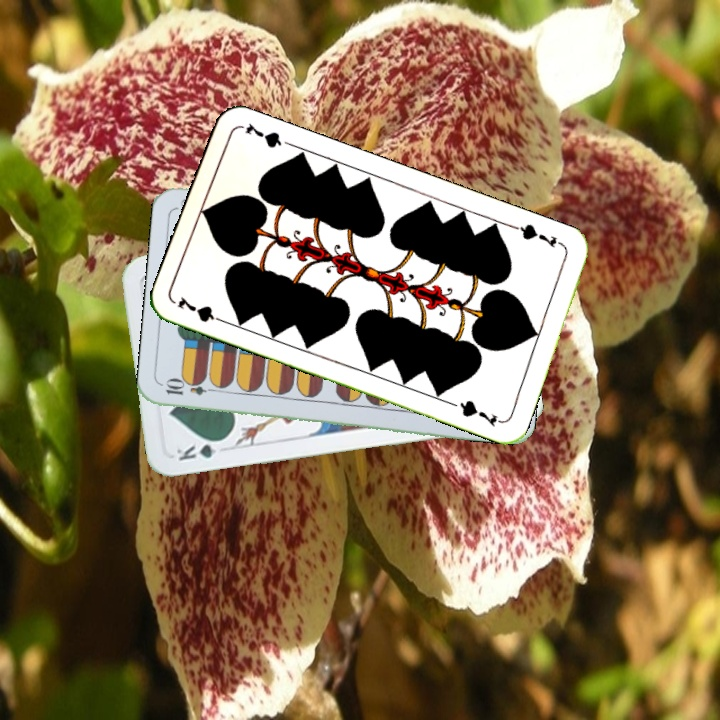E10: (161, 378, 221, 398)
G7: (173, 292, 230, 327), (510, 220, 567, 251)
GK: (172, 435, 228, 464)
